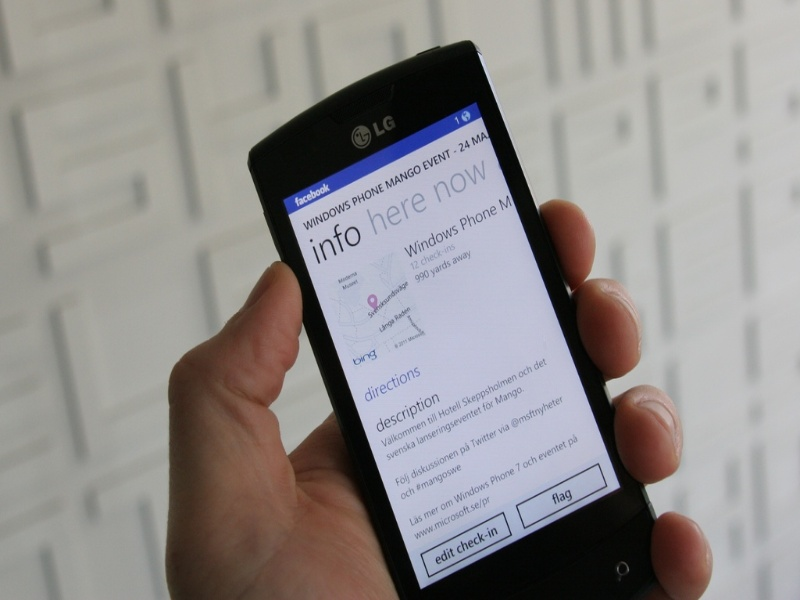cellphone: (230, 28, 660, 600)
